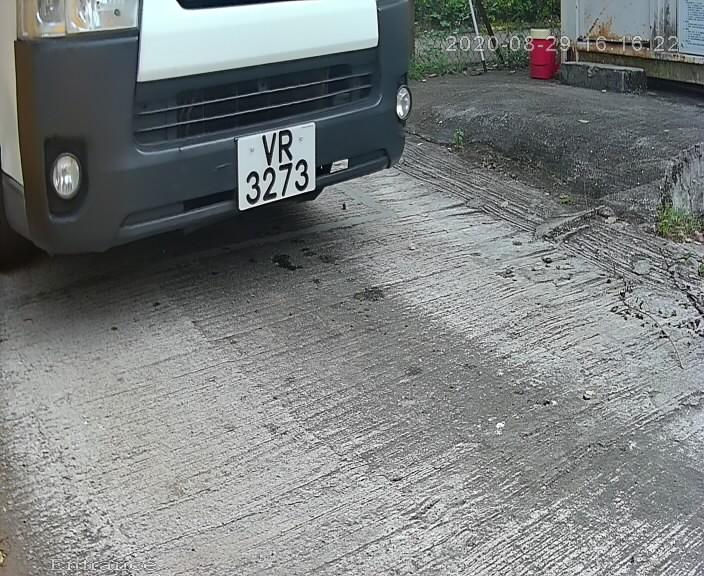License Plate: (224, 116, 331, 219)
